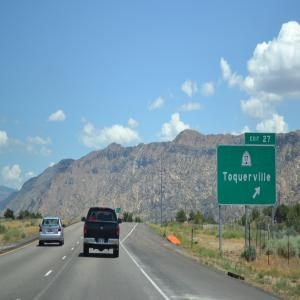Vehicle-registration-plate: (99, 238, 105, 246), (49, 229, 53, 232)
